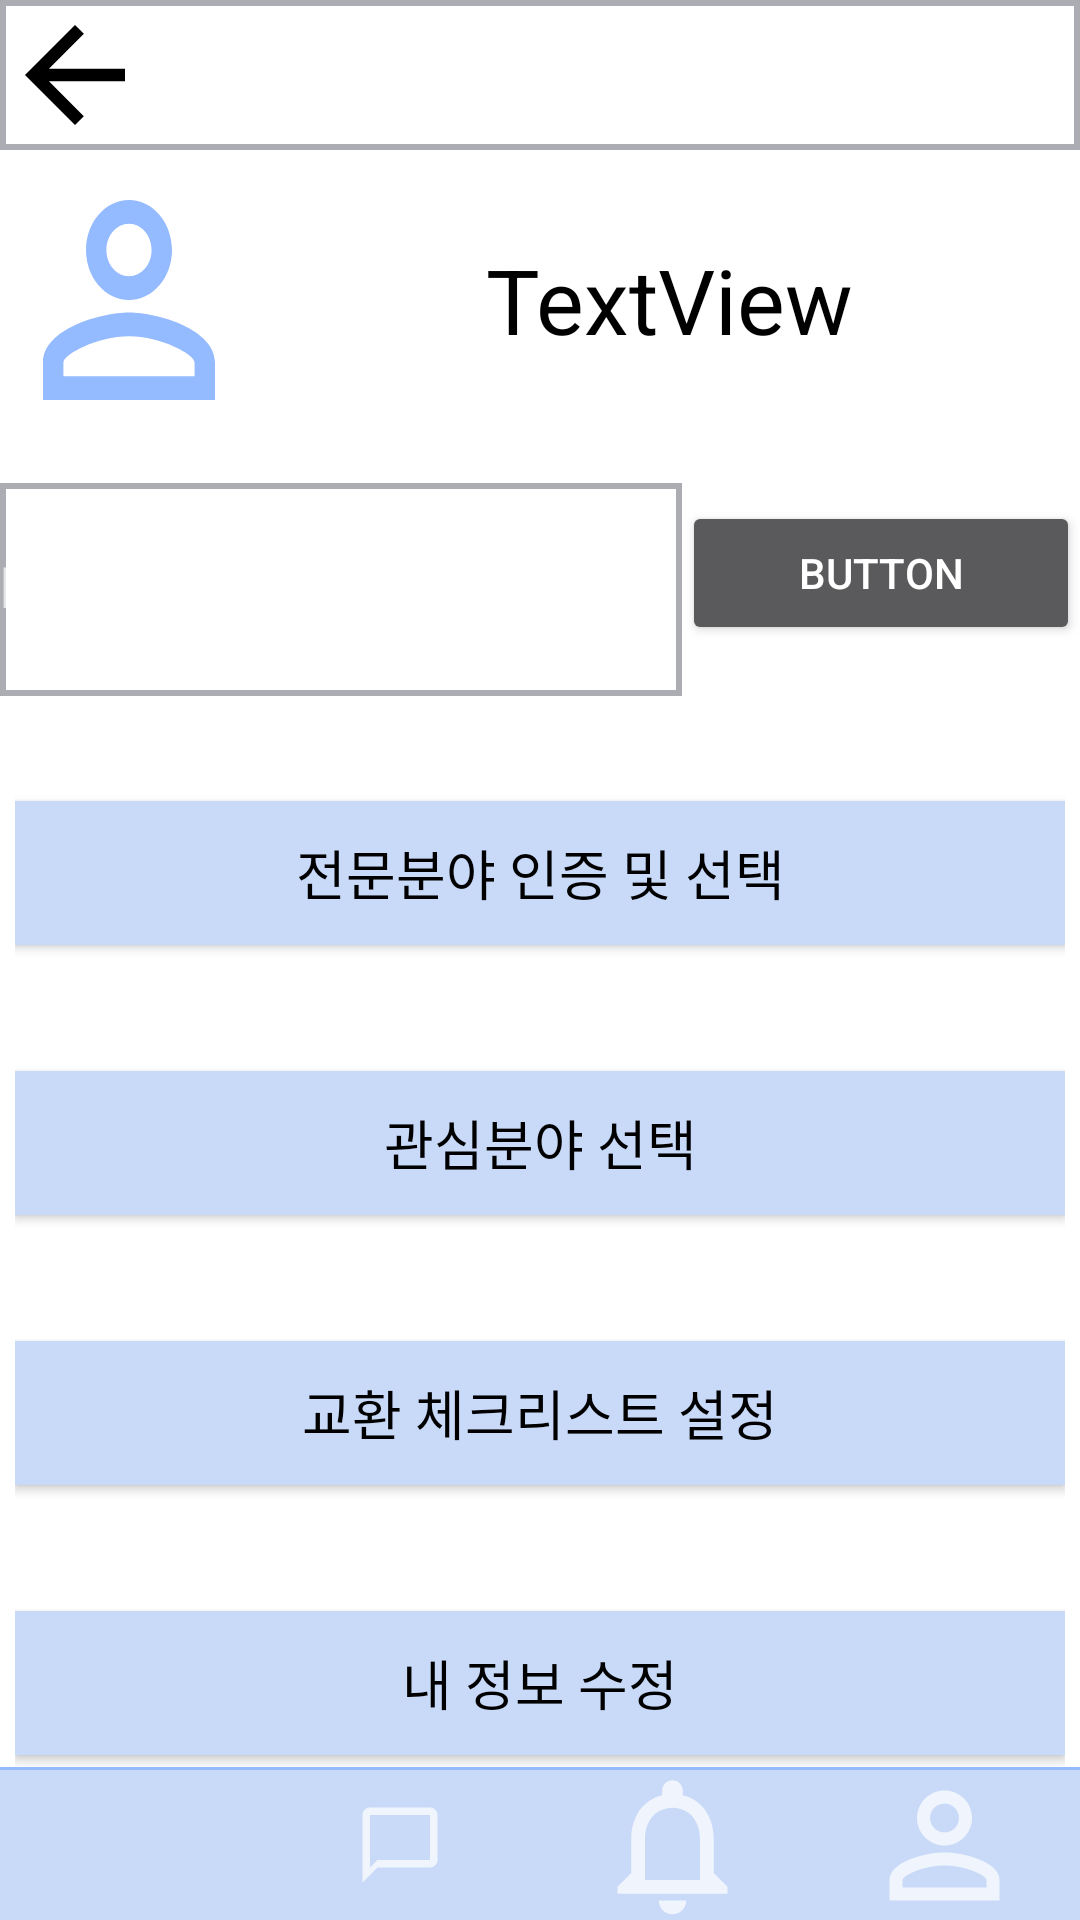

Where to tap for icons on this 1080px x 1920px app screen, as (x=x, y=y):
arrow back: (x=75, y=75)
chat bubble: (x=400, y=1844)
notifications none: (x=672, y=1847)
